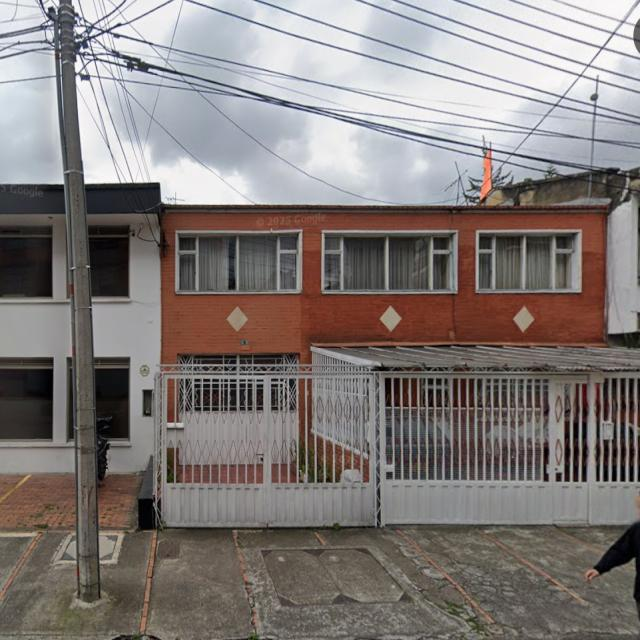fachada: (156, 202, 639, 525), (487, 169, 639, 344), (0, 185, 74, 473)
poste: (58, 0, 99, 602), (50, 8, 75, 353), (588, 76, 598, 200)
